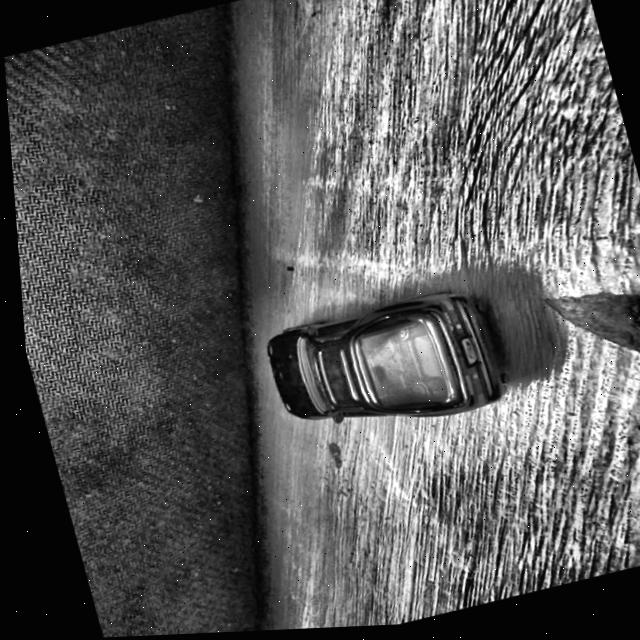car: (251, 283, 508, 456)
